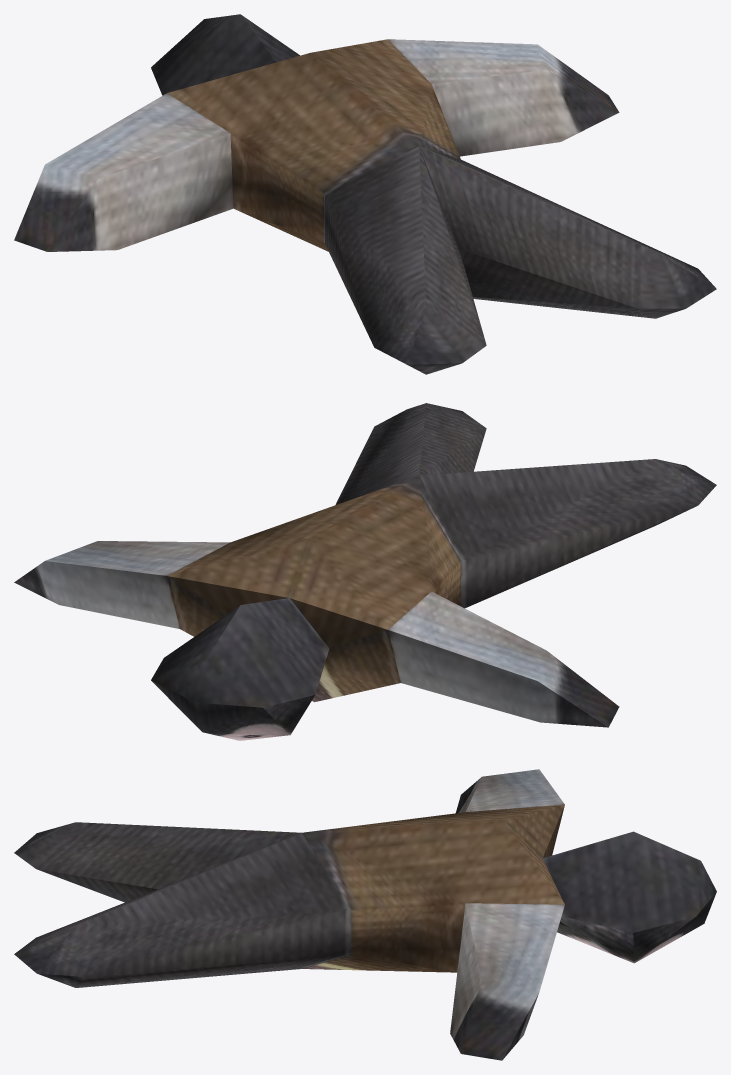
The model's file is pir_m_hnd_dol_spirit_c.fbx.
3 views of the same model, one above another, from view 1: azimuth 30°, elevation 25°; view 2: azimuth 150°, elevation 25°; view 3: azimuth 270°, elevation 25° (orthographic). The views are drawn at different scales.
Parts seen in each view (by area): view 1: lod_high; view 2: lod_high; view 3: lod_high.
Boxes of the visible parts, x1,y1,x2,y2 form: lod_high: [14, 14, 716, 374]; lod_high: [14, 403, 716, 740]; lod_high: [14, 769, 716, 1060].
Size of the model in its own units: 50.1 by 13.2 by 55.25.
Materials: 1 (1 with a texture image).
